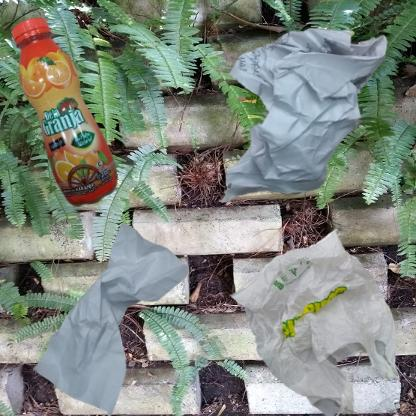bolsa: (213, 213, 416, 416)
botella: (10, 10, 128, 226)
papel: (10, 213, 219, 416), (213, 10, 394, 226)
